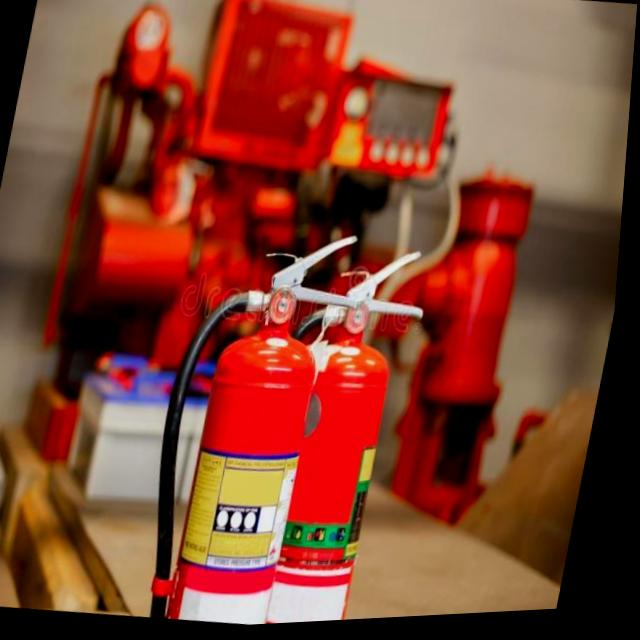FireExtinguisher: (130, 215, 380, 633), (228, 233, 443, 629)
